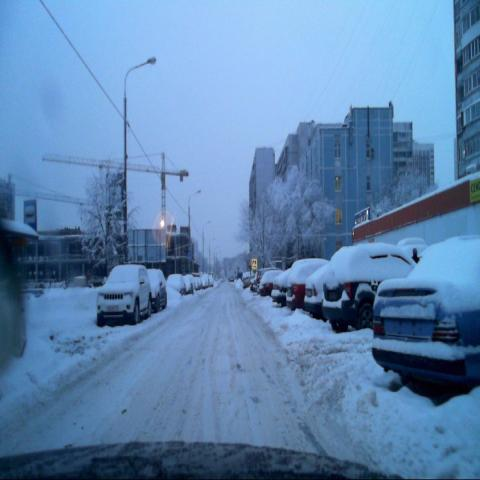5_19_1: (251, 257, 257, 270)
